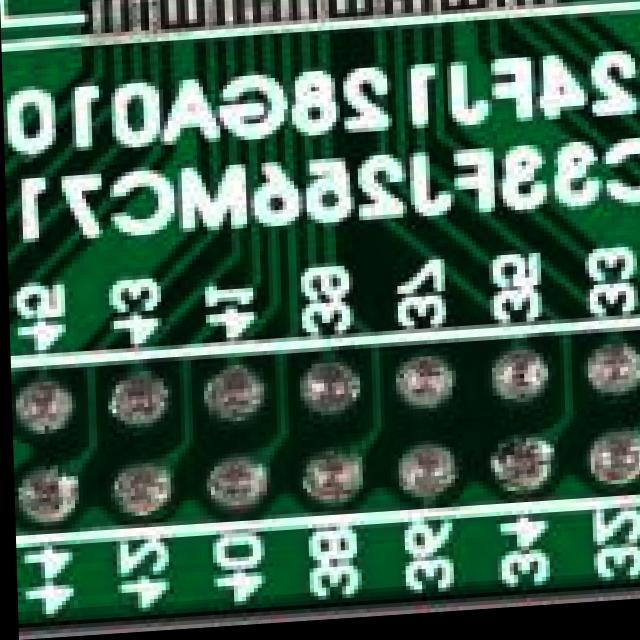IC: (16, 0, 620, 11)
